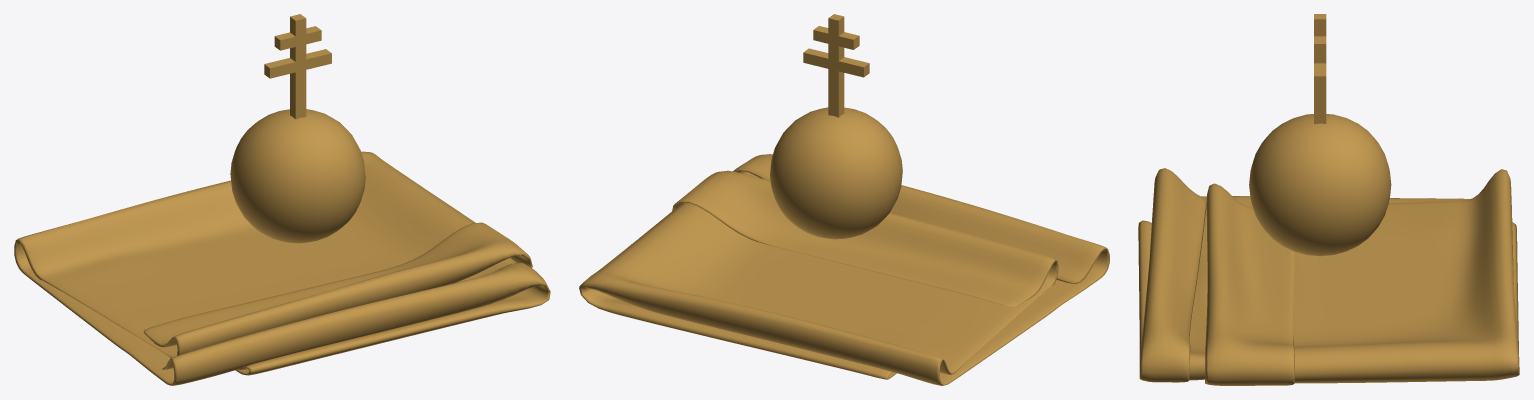
File: apple_coat.glb
3 views of the same model, side by side, from view 1: azimuth 30°, elevation 25°; view 2: azimuth 150°, elevation 25°; view 3: azimuth 270°, elevation 25° (orthographic). The views are drawn at different scales.
Visible parts, largest first — view 1: cloak, apple; view 2: cloak, apple; view 3: cloak, apple.
Part boxes in pixels (x1,y1,x2,y2): cloak: (14, 151, 550, 385); apple: (230, 14, 365, 243); cloak: (579, 154, 1109, 385); apple: (770, 14, 902, 239); cloak: (1138, 168, 1519, 385); apple: (1249, 14, 1391, 256).
Size of the model in its own units: 0.7557 by 0.508 by 0.6141.
